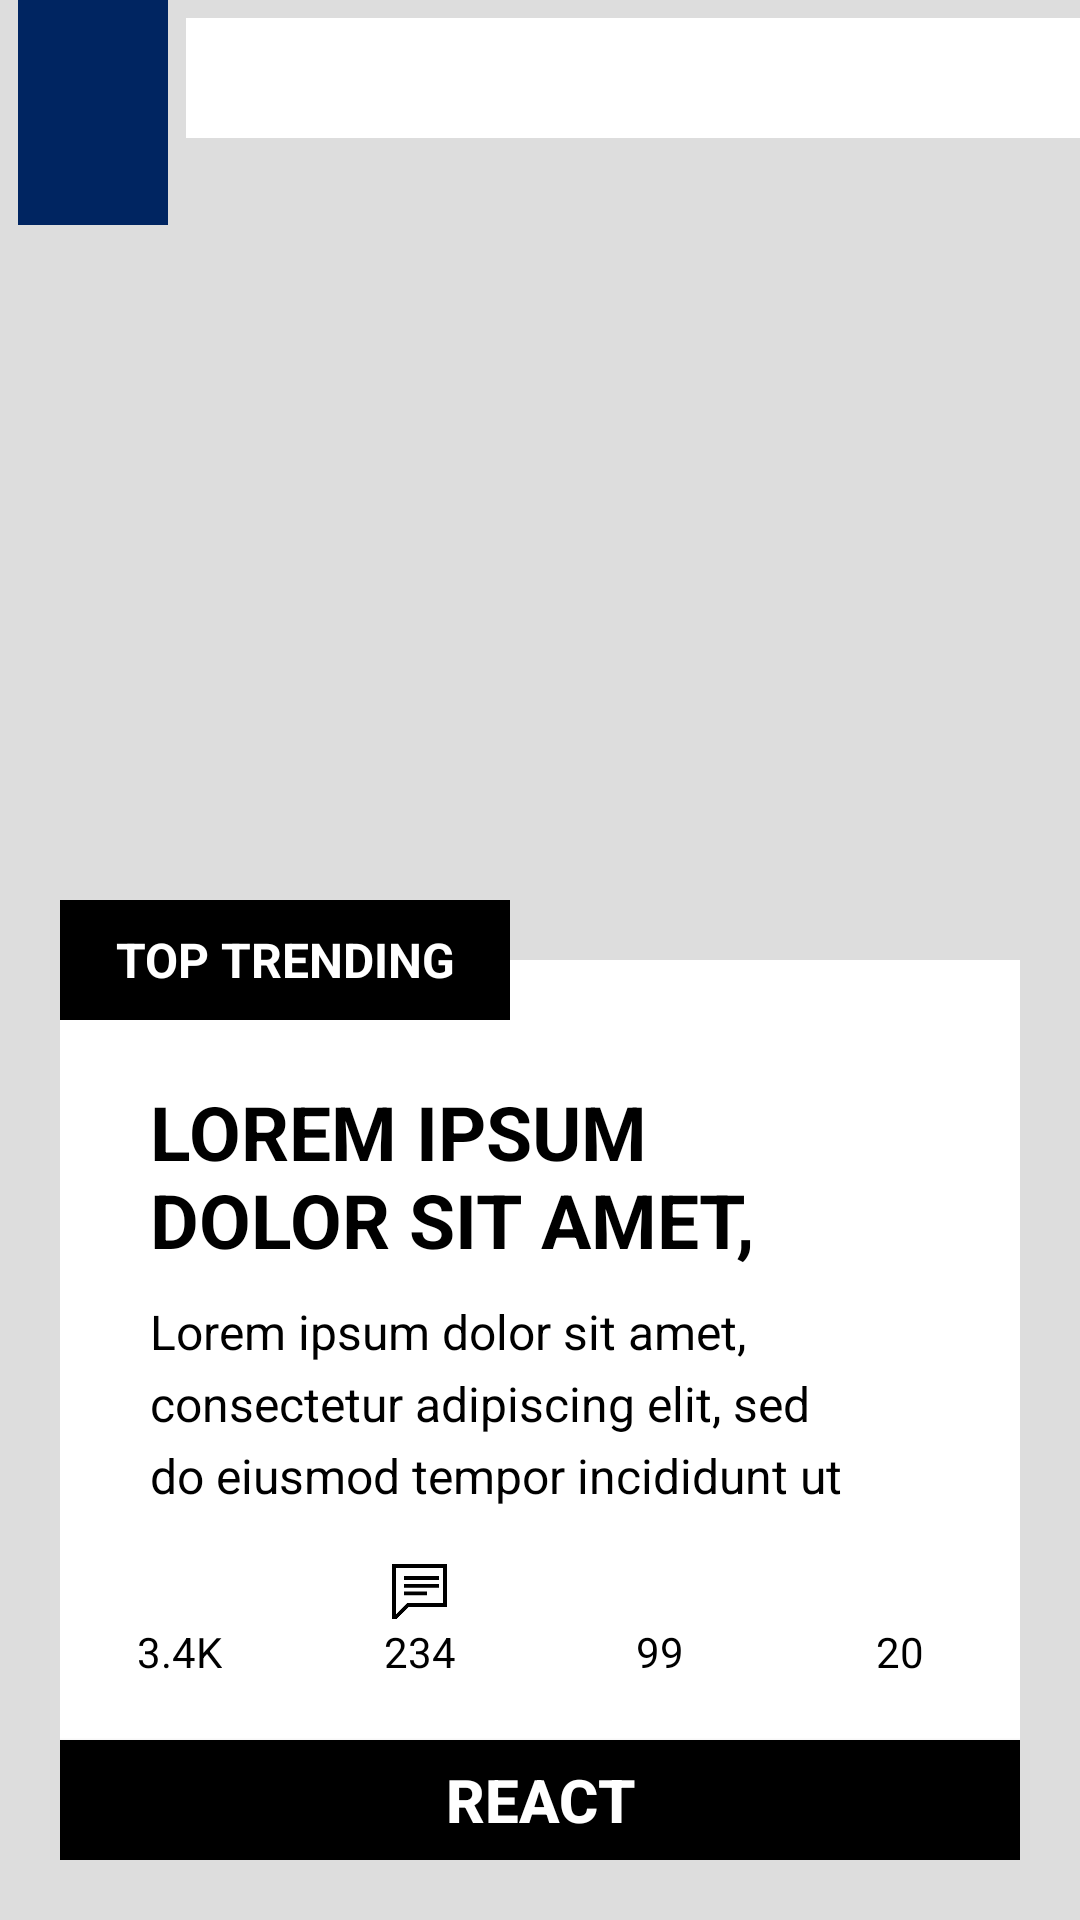

Point at icon controls on the screen. Image size 1080*1920, points as point (x, y).
if comment: point (419, 1591)
